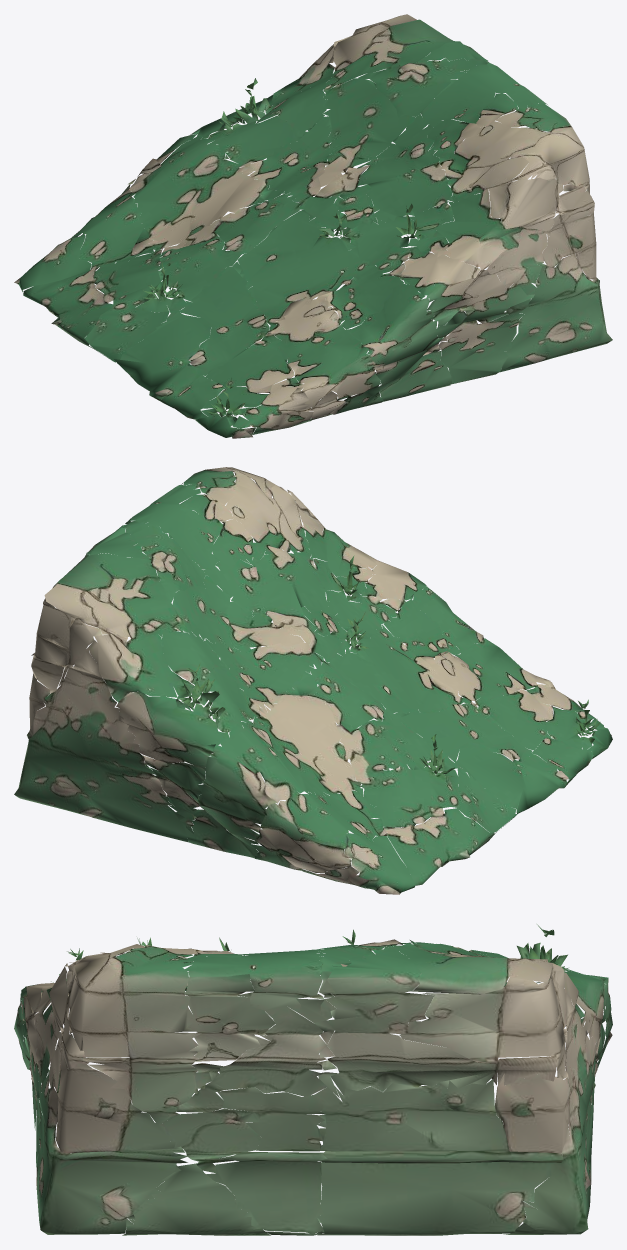
File: rock.glb
The picture shows the model from 3 angles, top to bottom: view 1: azimuth 30°, elevation 25°; view 2: azimuth 150°, elevation 25°; view 3: azimuth 270°, elevation 25°; orthographic projection. The views are drawn at different scales.
Parts seen in each view (by area): view 1: tripo_node_29556fdb-b2e0-4b60-84c7-6791b1185cb0; view 2: tripo_node_29556fdb-b2e0-4b60-84c7-6791b1185cb0; view 3: tripo_node_29556fdb-b2e0-4b60-84c7-6791b1185cb0.
Boxes of the visible parts, box(x1,y1,x2,y2) form: tripo_node_29556fdb-b2e0-4b60-84c7-6791b1185cb0: box(14, 14, 612, 438); tripo_node_29556fdb-b2e0-4b60-84c7-6791b1185cb0: box(14, 467, 612, 894); tripo_node_29556fdb-b2e0-4b60-84c7-6791b1185cb0: box(14, 924, 612, 1235).
Bounding box in the file's own units: 1.01 × 0.5018 × 0.996.
Materials: 1 (1 with a texture image).
